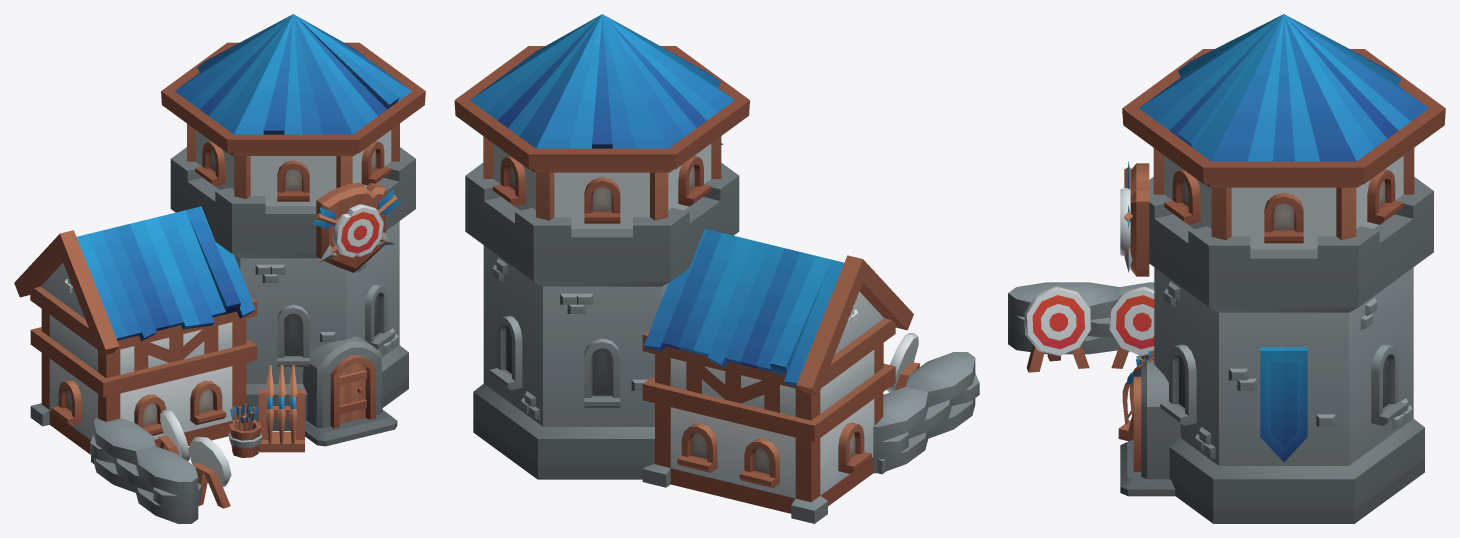
Rendered from archery.glb.
3 views of the same model, side by side, from view 1: azimuth 30°, elevation 25°; view 2: azimuth 150°, elevation 25°; view 3: azimuth 270°, elevation 25° (orthographic). The views are drawn at different scales.
Parts seen in each view (by area): view 1: building_archeryrange_blue; view 2: building_archeryrange_blue; view 3: building_archeryrange_blue.
Boxes of the visible parts, x1,y1,x2,y2 form: building_archeryrange_blue: (14, 14, 425, 523); building_archeryrange_blue: (454, 14, 979, 523); building_archeryrange_blue: (1008, 14, 1445, 523).
Bounding box in the file's own units: 1.67 × 1.79 × 1.55.
Materials: 1 (1 with a texture image).
